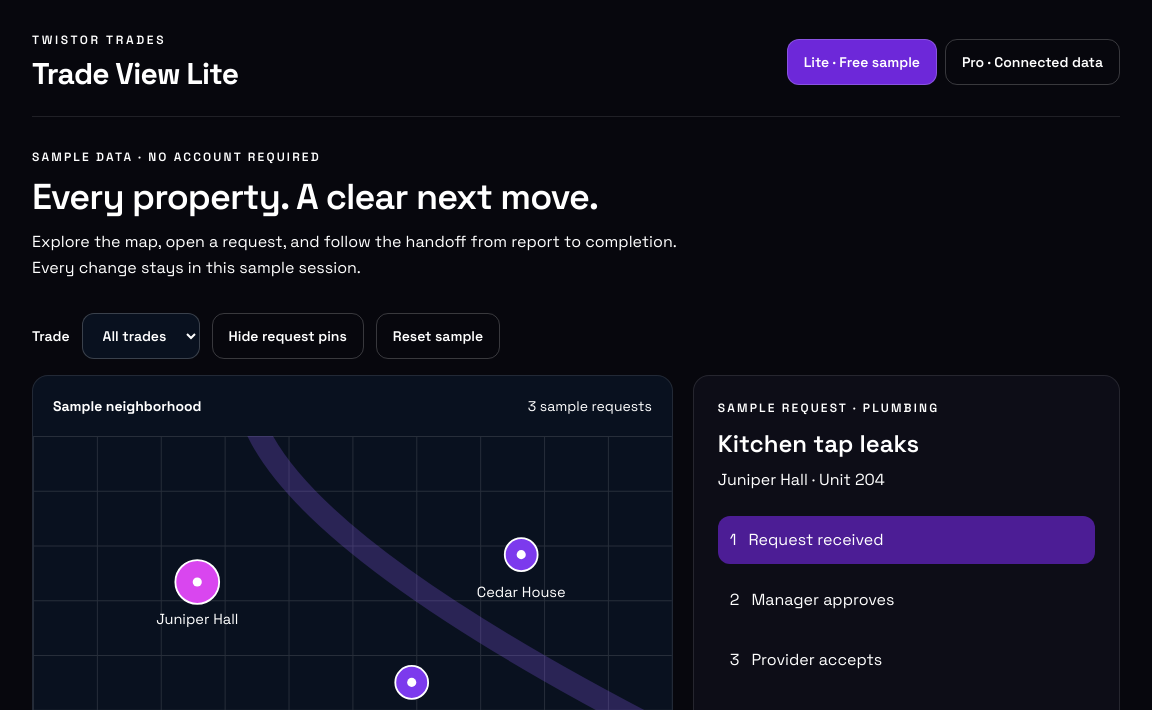
Scenario: Pro failure 403 never substitutes fictional data
The width and height of the screenshot is (1152, 710).
Click the button "Pro · Connected data": (1032, 62) [945,39,1120,85]
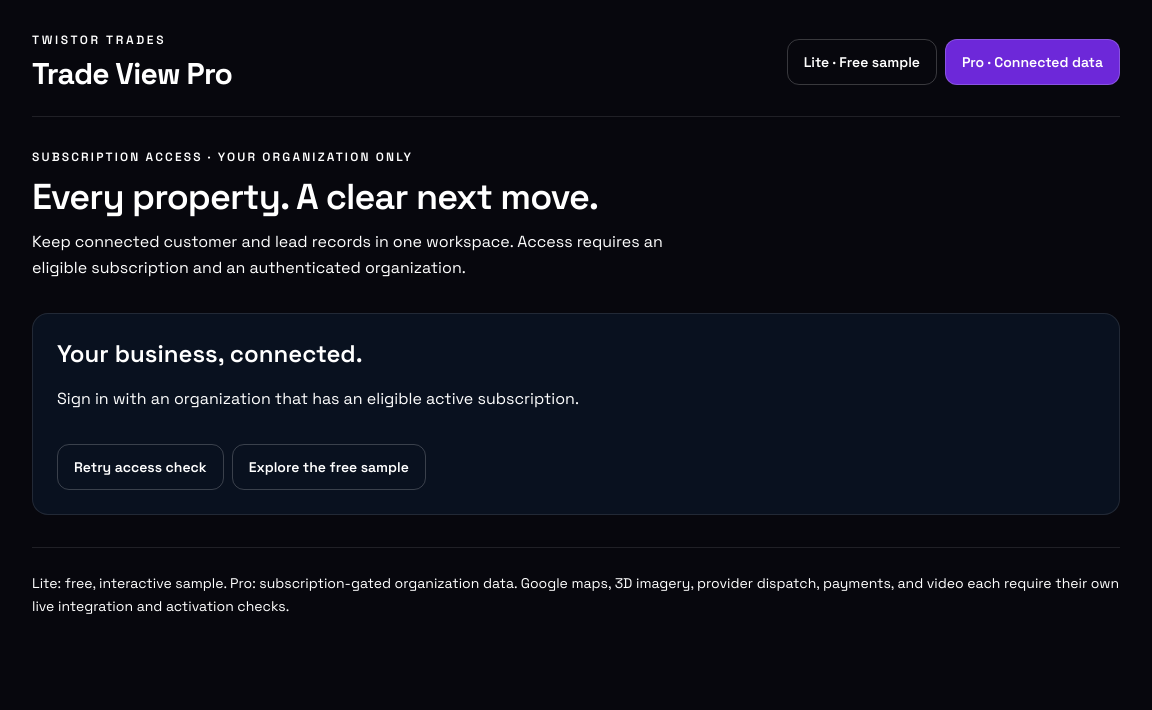
Now the button "Retry access check" is shown, box [57,444,224,490]
